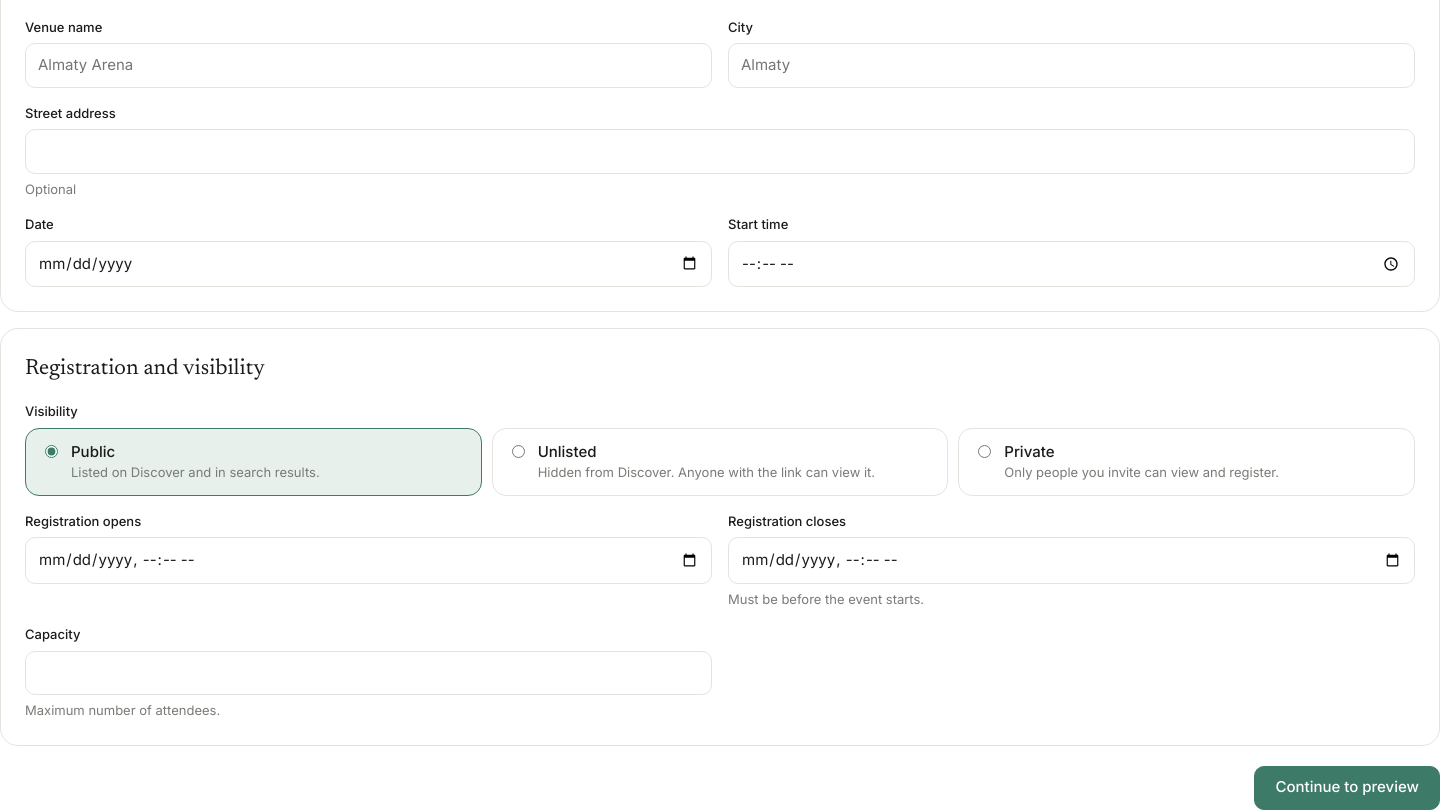
Test: CreateEventForm › shows an error for every required field and does not continue when empty
The width and height of the screenshot is (1452, 810).
(page scrolled)
Click the button "Continue to preview" at (1347, 788), box x1=1254 y1=766 x2=1440 y2=809
(page scrolled)
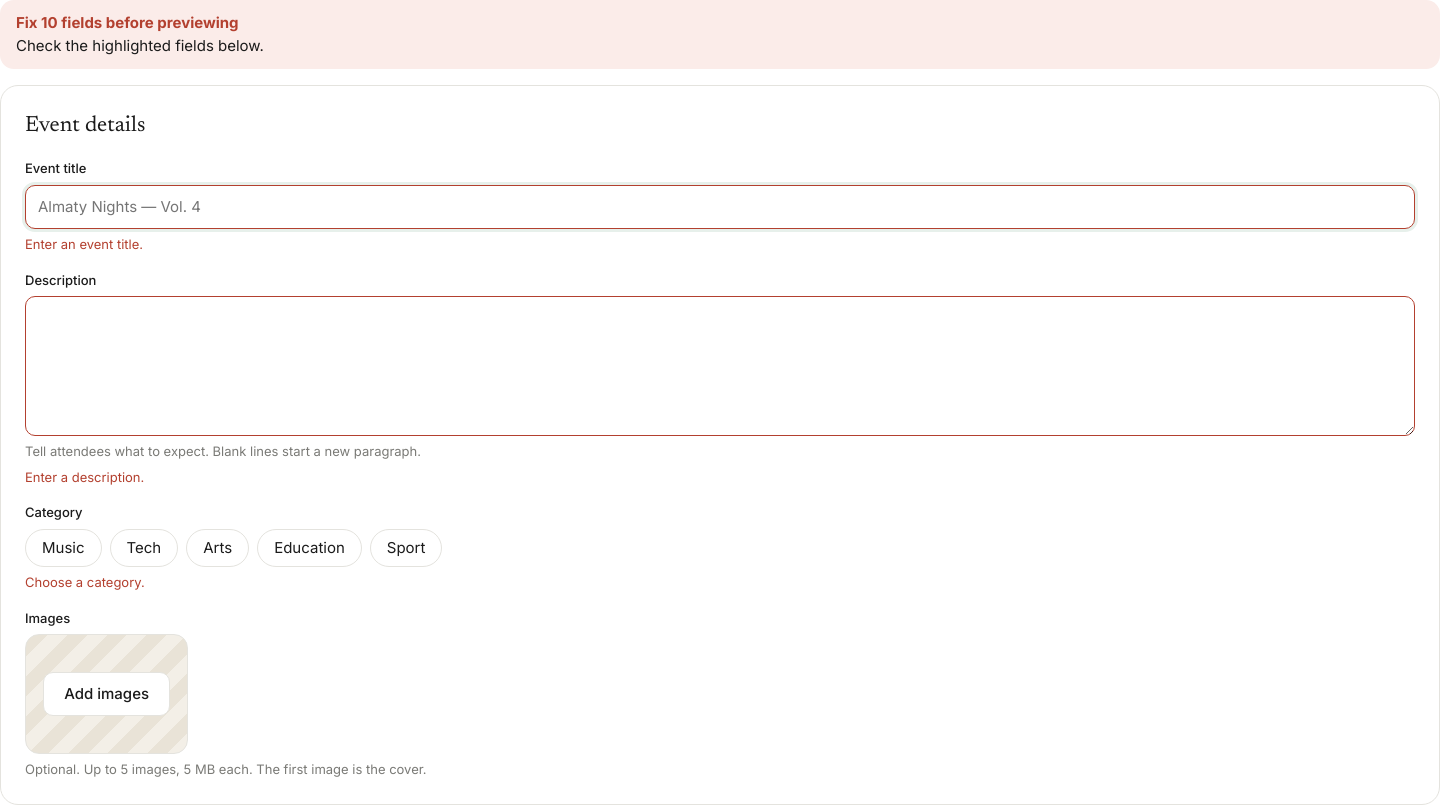
Expected: the message shows "Fix 10 fields before previewing", x1=0 y1=0 x2=1440 y2=69
Expected: the text "Enter an event title." is shown, x1=25 y1=236 x2=143 y2=252
Expected: the text "Enter a description." is shown, x1=25 y1=468 x2=144 y2=484
